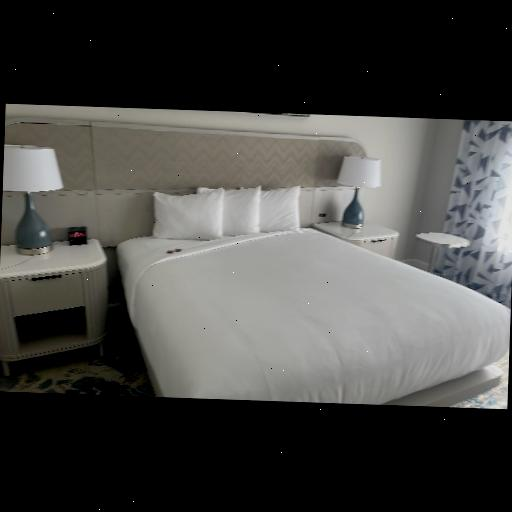clean_bed: (90, 119, 504, 407)
organised_pillow: (147, 176, 303, 248)
